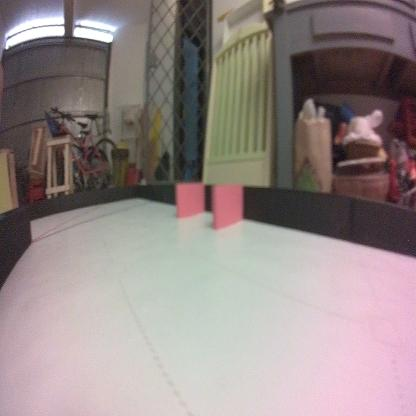magenta: (210, 182, 244, 230), (175, 180, 205, 220)
